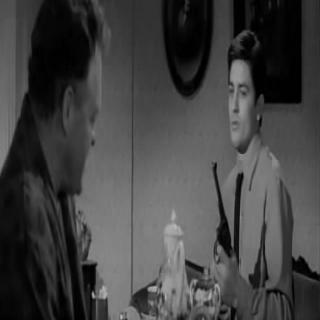gun: (208, 159, 248, 307)
